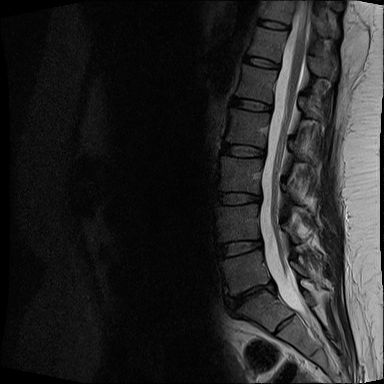Degenerative Disc Disease (DDD): (219, 275, 280, 313)
Lumbar Disc Bulge (LDB): (221, 270, 283, 318), (212, 191, 266, 208)
Normal IVD: (214, 235, 265, 264), (218, 138, 270, 161), (239, 49, 286, 74), (227, 94, 275, 116), (252, 19, 293, 35)
Spinal Stenosis (SS): (262, 271, 285, 303), (252, 184, 271, 210)
